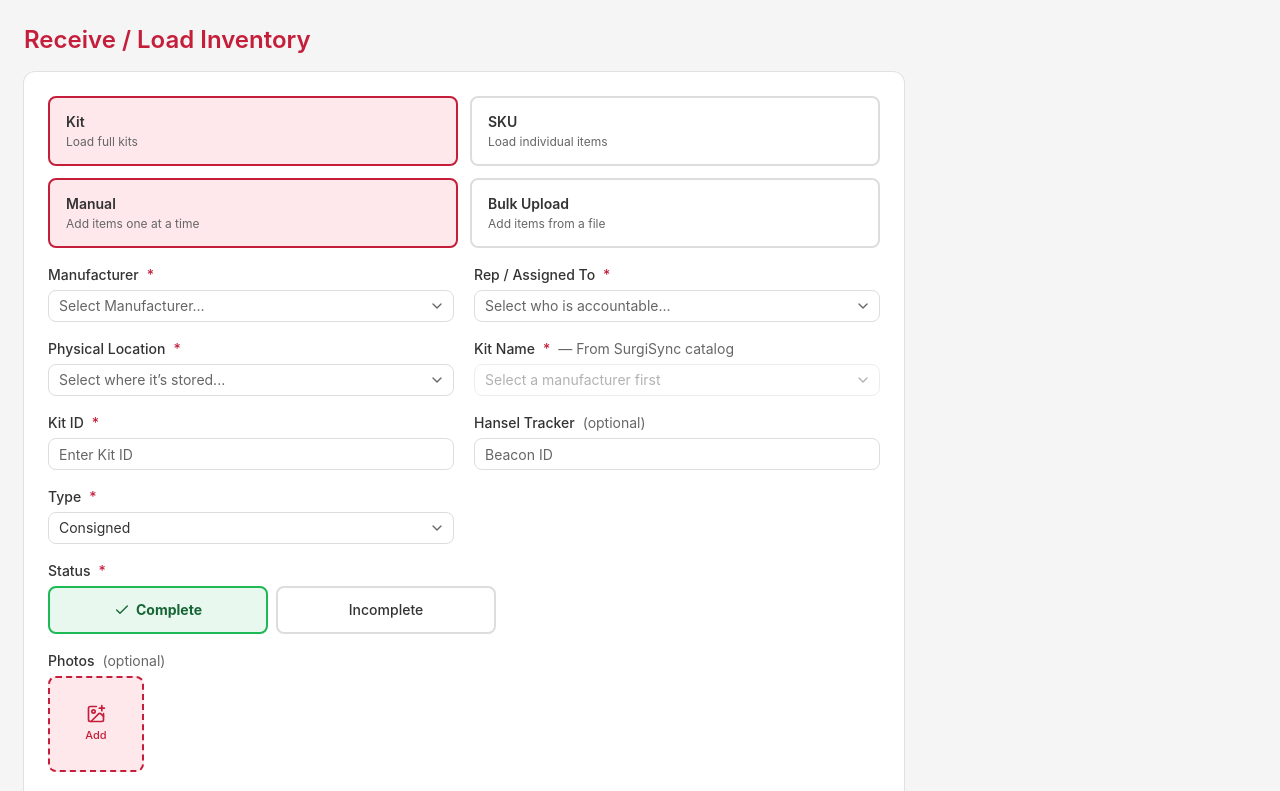
Test case: ReceiveScreen › switches mode when the card itself is clicked
Click the text "Load individual items" at (548, 142), box [488,134,608,149]
(page scrolled)
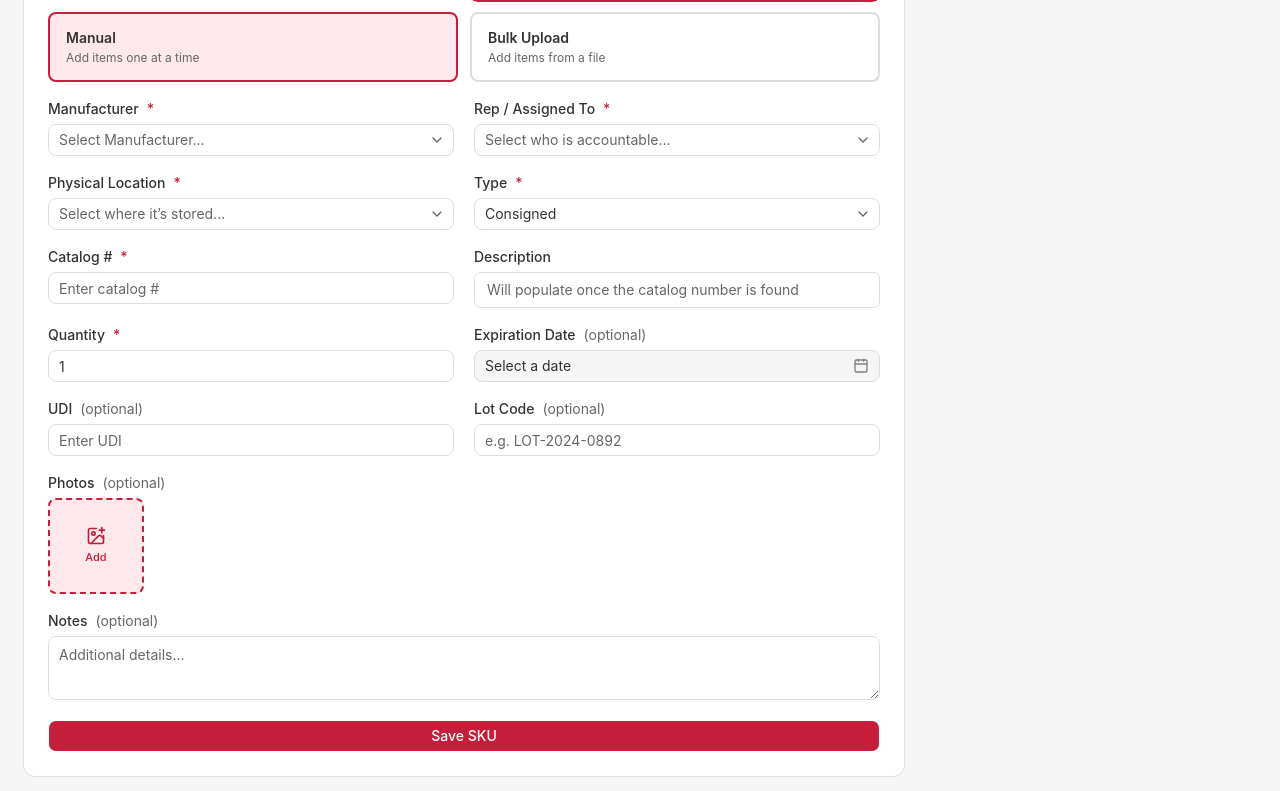
Result: the button "Save SKU" is shown at [48,720,880,752]
